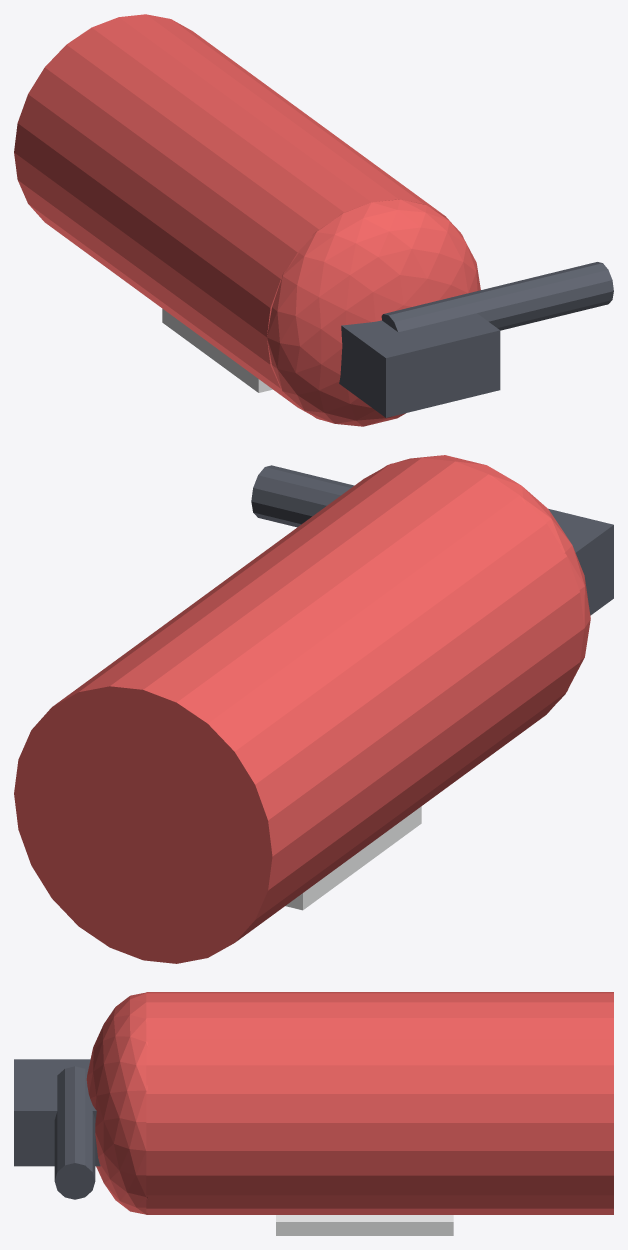
Rendered from 20_fire_extinguisher.glb.
3 renders of one model, top to bottom at view 1: azimuth 30°, elevation 25°; view 2: azimuth 150°, elevation 25°; view 3: azimuth 270°, elevation 25°, orthographic. The views are drawn at different scales.
Visible parts, largest first — view 1: part_1, part_2, part_3, part_4, part_5; view 2: part_1, part_4, part_3, part_2, part_5; view 3: part_1, part_2, part_3, part_4, part_5.
Part boxes in pixels (bbox=[...]): part_1: bbox=[14, 14, 451, 419]; part_2: bbox=[267, 199, 480, 426]; part_3: bbox=[339, 313, 500, 417]; part_4: bbox=[381, 262, 613, 332]; part_5: bbox=[162, 309, 272, 392]; part_1: bbox=[14, 458, 584, 963]; part_4: bbox=[251, 465, 354, 527]; part_3: bbox=[548, 508, 613, 615]; part_2: bbox=[382, 455, 590, 701]; part_5: bbox=[285, 806, 421, 910]; part_1: bbox=[146, 992, 613, 1214]; part_2: bbox=[86, 992, 148, 1214]; part_3: bbox=[14, 1059, 100, 1166]; part_4: bbox=[54, 1066, 95, 1199]; part_5: bbox=[276, 1215, 453, 1235].
Bounding box in the file's own units: 0.625 × 0.465 × 1.18.
